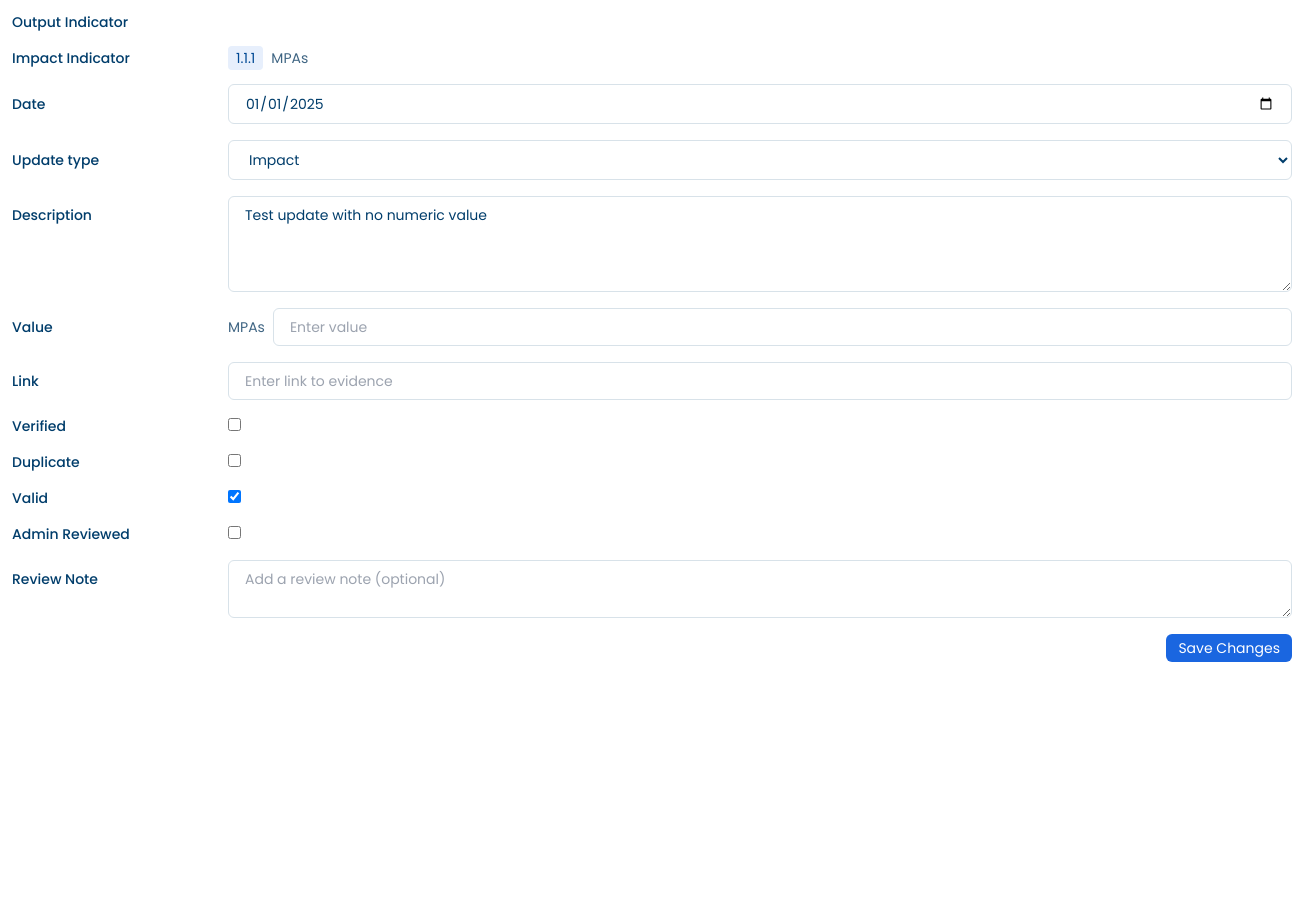
it: an admin still cannot approve a legacy Impact update with a null value
The width and height of the screenshot is (1304, 912).
Click the checkbox labelled "Admin Reviewed": (234, 532) [228,526,241,539]
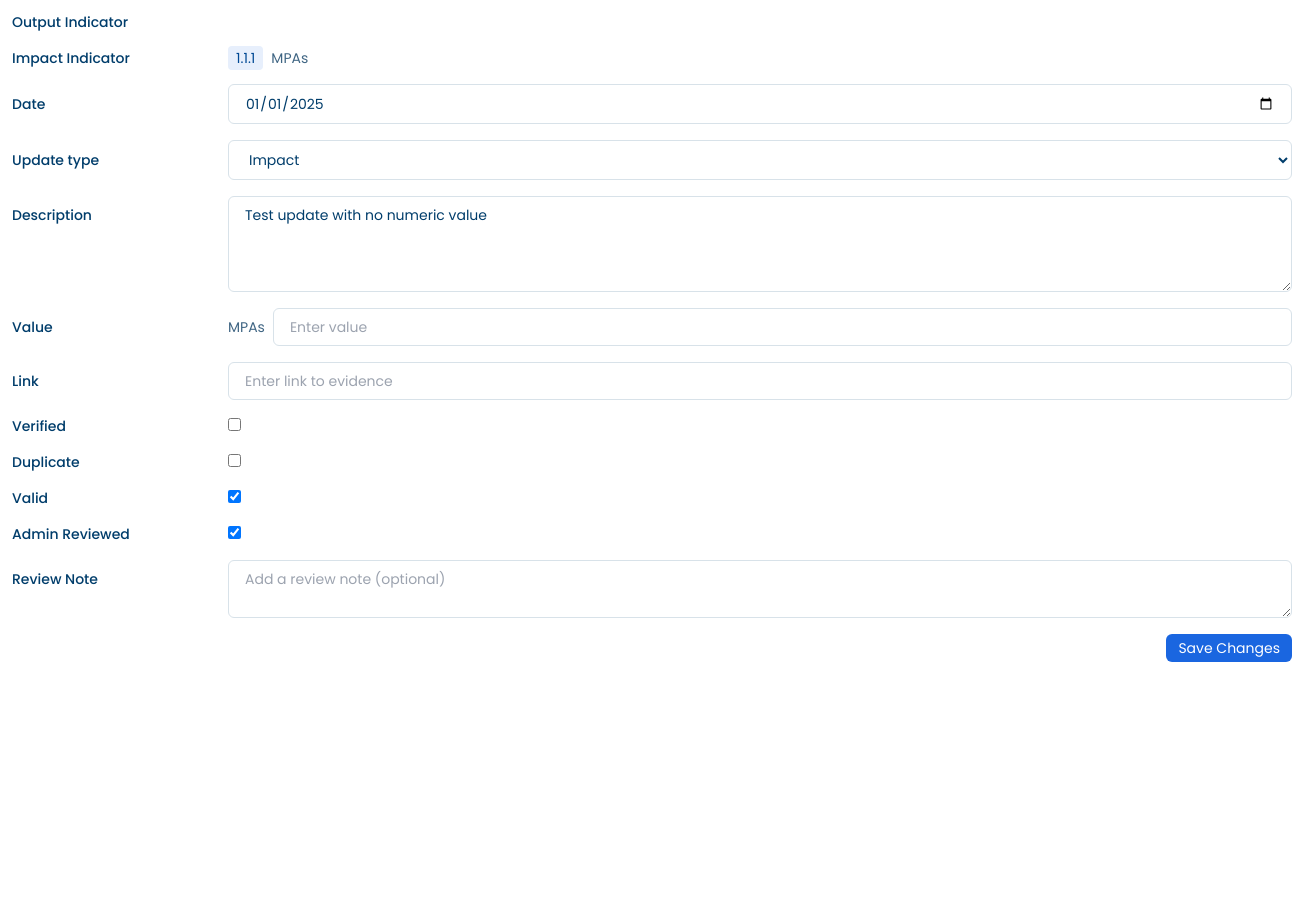
Click the button "Save Changes": (1229, 648) [1166,634,1292,662]
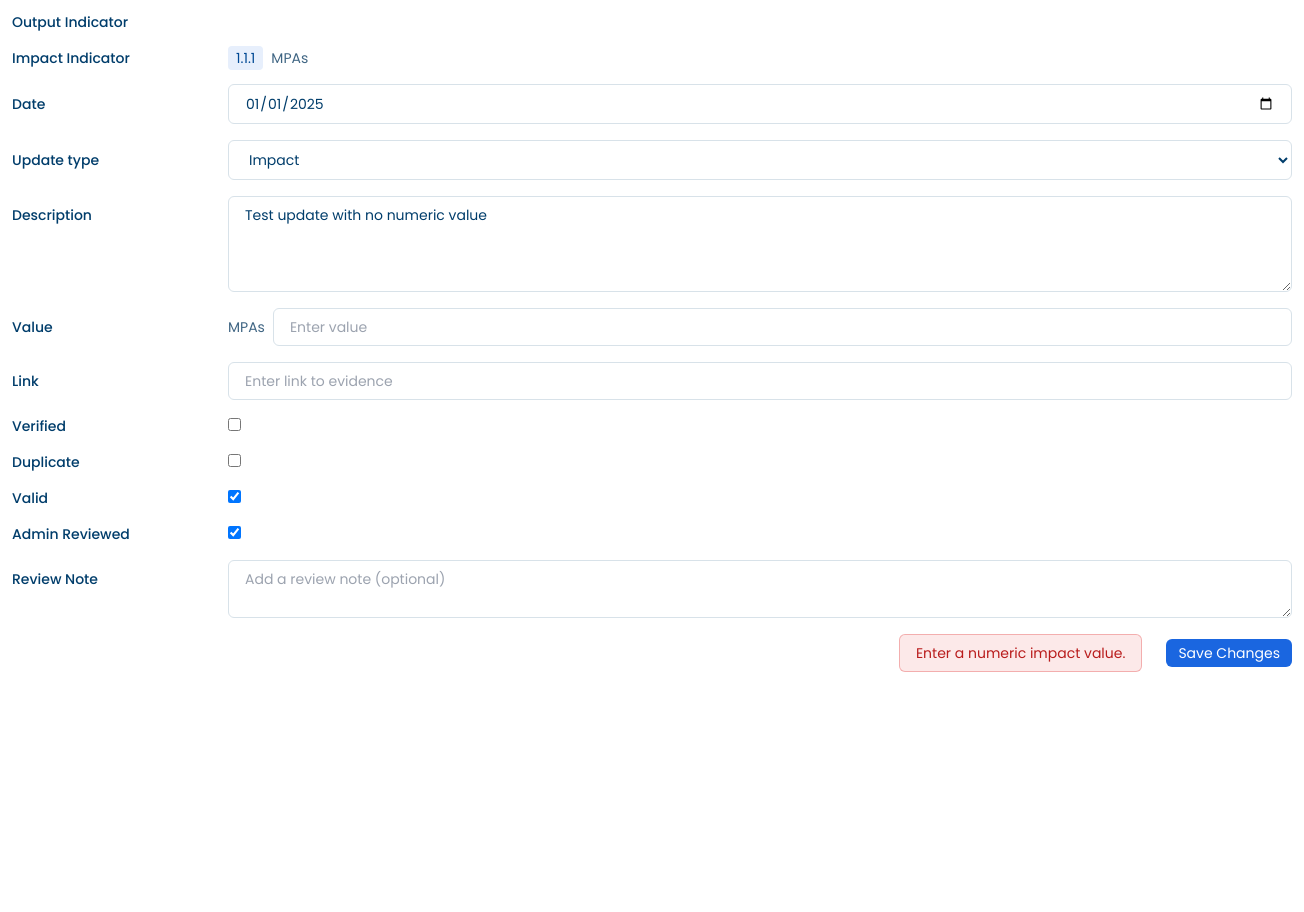
Expected: the message reads "Enter a numeric impact value.", [916,643,1125,663]
